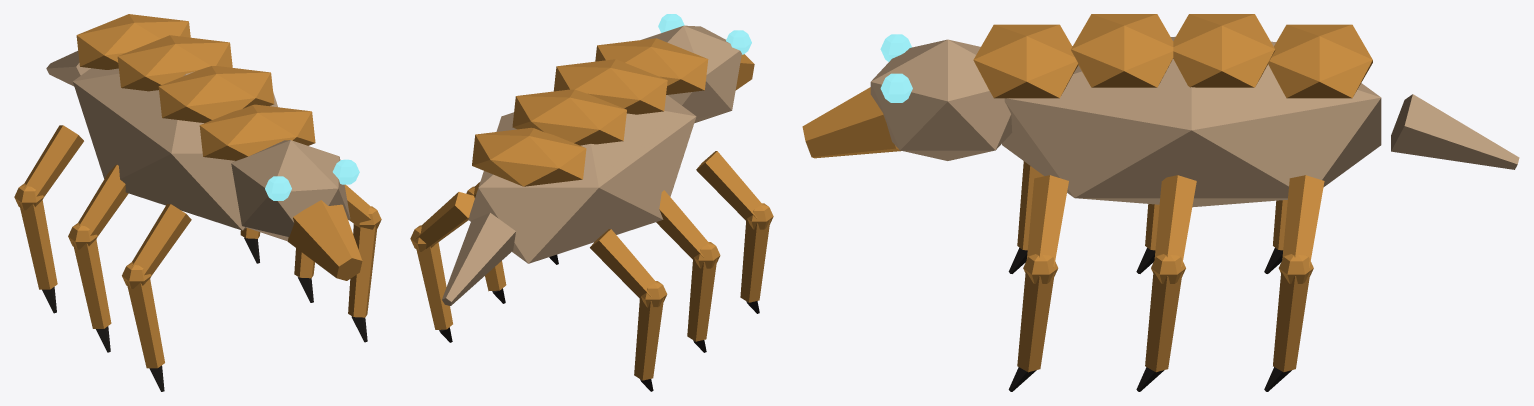
Rendered from exo-wild-hexapod.glb.
3 views of the same model, side by side, from view 1: azimuth 30°, elevation 25°; view 2: azimuth 150°, elevation 25°; view 3: azimuth 270°, elevation 25° (orthographic). The views are drawn at different scales.
Visible parts, largest first — view 1: body; view 2: body; view 3: body.
Part boxes in pixels (bbox=[...]): body: bbox=[14, 14, 381, 391]; body: bbox=[410, 14, 773, 391]; body: bbox=[802, 14, 1519, 391].
Bounding box in the file's own units: 1.49 × 1.46 × 3.09.
